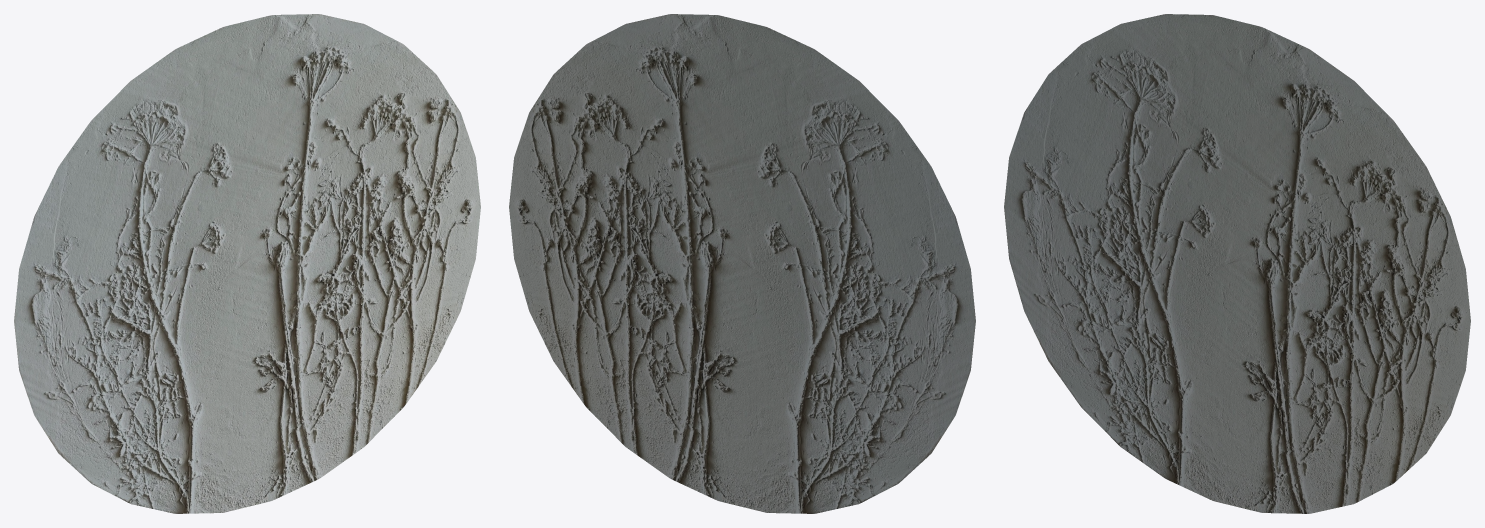
File: yavnoe.gltf
3 views of the same model, side by side, from view 1: azimuth 30°, elevation 25°; view 2: azimuth 150°, elevation 25°; view 3: azimuth 330°, elevation 25° (orthographic).
Parts seen in each view (by area): view 1: Cylinder001; view 2: Cylinder001; view 3: Cylinder001.
Part boxes in pixels (left/top/right/bottom): Cylinder001: left=14, top=14, right=480, bottom=513; Cylinder001: left=509, top=14, right=975, bottom=513; Cylinder001: left=1004, top=14, right=1470, bottom=513.
Size of the model in its own units: 0.7 by 0.6962 by 1.55e-16.
Materials: 1 (1 with a texture image).
